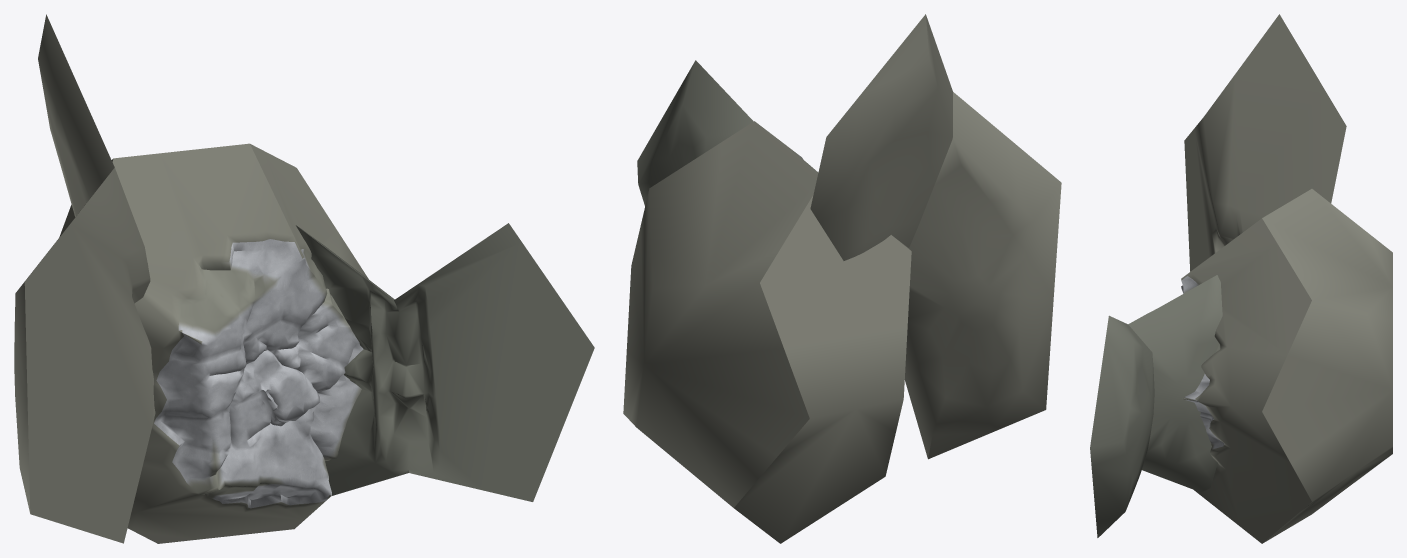
File: wall-lod2.glb
The picture shows the model from 3 angles, left to right: view 1: azimuth 30°, elevation 25°; view 2: azimuth 150°, elevation 25°; view 3: azimuth 270°, elevation 25°; orthographic projection. The views are drawn at different scales.
Parts seen in each view (by area): view 1: Wall_LOD2; view 2: Wall_LOD2; view 3: Wall_LOD2.
Boxes of the visible parts, x1,y1,x2,y2 form: Wall_LOD2: (14,14,594,543); Wall_LOD2: (623,14,1061,543); Wall_LOD2: (1090,14,1392,543).
Size of the model in its own units: 43.29 by 46.9 by 28.62.
Materials: 3 (1 with a texture image).
